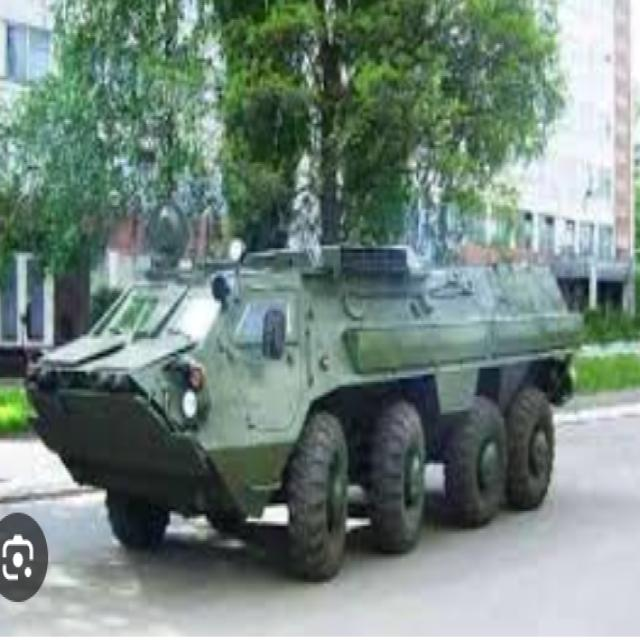MIL_APC: (4, 210, 585, 588)
